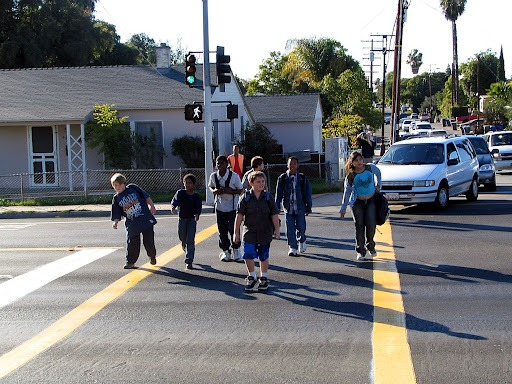crosswalk: (0, 207, 391, 383)
pedestrian_walk: (185, 104, 201, 119)
person: (235, 171, 279, 290), (340, 151, 380, 259), (111, 174, 154, 268), (275, 157, 311, 255), (209, 155, 242, 260), (171, 175, 201, 269), (241, 156, 263, 190), (227, 145, 243, 178)
